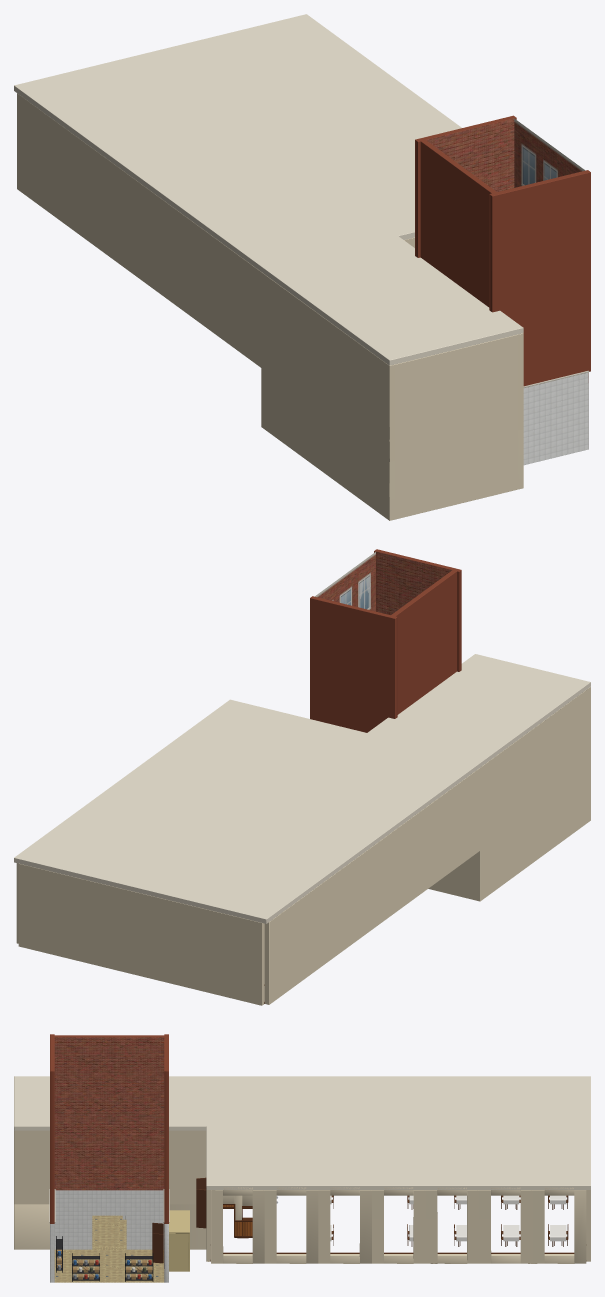
File: mess.glb
3 views of the same model, one above another, from view 1: azimuth 30°, elevation 25°; view 2: azimuth 150°, elevation 25°; view 3: azimuth 270°, elevation 25° (orthographic). The views are drawn at different scales.
Bounding box in the file's own units: 16.62 × 15 × 36.91.
Materials: 262 (89 with a texture image).
